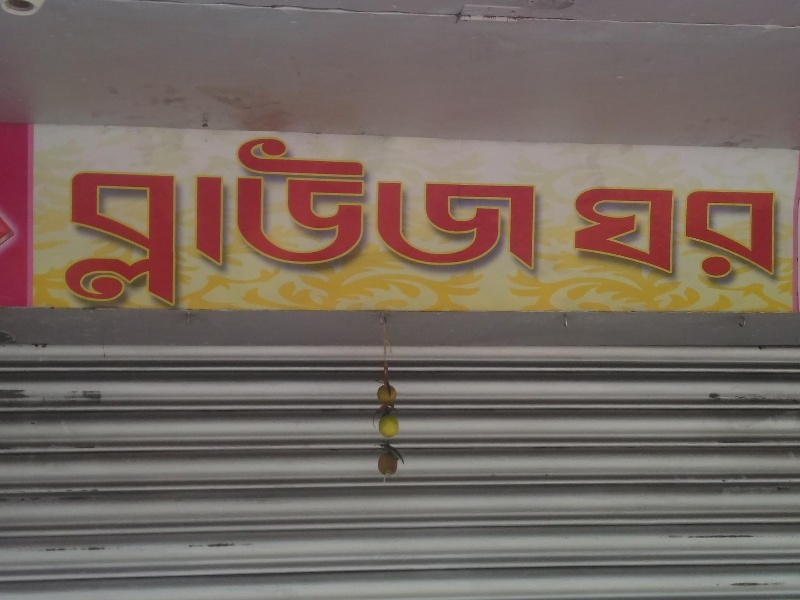text: (81, 122, 96, 318), (97, 122, 112, 318), (113, 122, 128, 318), (129, 122, 144, 318), (145, 122, 160, 318), (161, 122, 176, 318), (177, 122, 192, 318), (193, 122, 208, 318), (209, 122, 224, 318), (225, 122, 240, 318), (241, 122, 256, 318), (257, 122, 272, 318), (273, 122, 288, 318), (289, 122, 304, 318), (305, 122, 320, 318), (321, 122, 336, 318), (337, 122, 352, 318), (353, 122, 368, 318), (369, 122, 384, 318), (385, 122, 400, 318), (401, 122, 416, 318), (417, 122, 432, 318), (433, 122, 448, 318), (449, 122, 464, 318), (465, 122, 480, 318), (481, 122, 496, 318), (497, 122, 512, 318), (513, 122, 528, 318), (529, 122, 543, 318), (69, 122, 80, 318), (769, 182, 785, 287), (577, 182, 592, 287), (593, 182, 608, 287), (609, 182, 624, 287), (625, 182, 640, 287), (641, 182, 656, 287), (657, 182, 672, 287), (673, 182, 688, 287), (689, 182, 704, 287), (705, 182, 720, 287), (721, 182, 736, 287), (737, 182, 752, 287), (753, 182, 768, 287), (571, 182, 576, 287)
